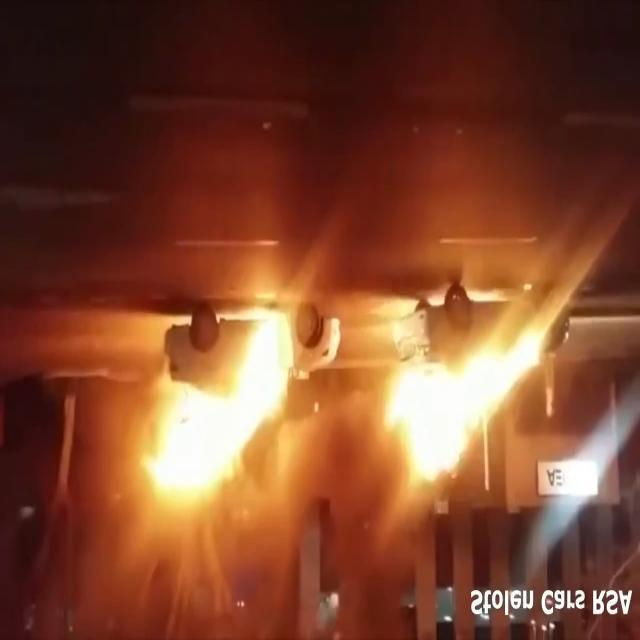fire: (129, 328, 299, 506), (378, 328, 540, 481)
